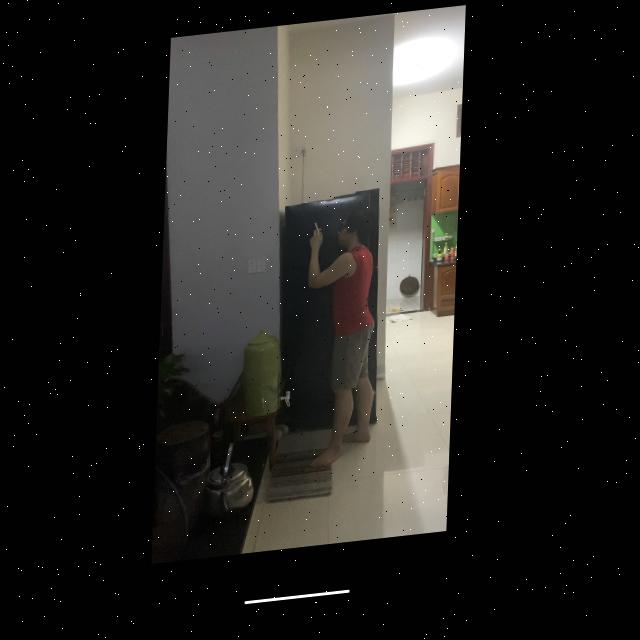cigarette: (316, 230, 320, 237)
